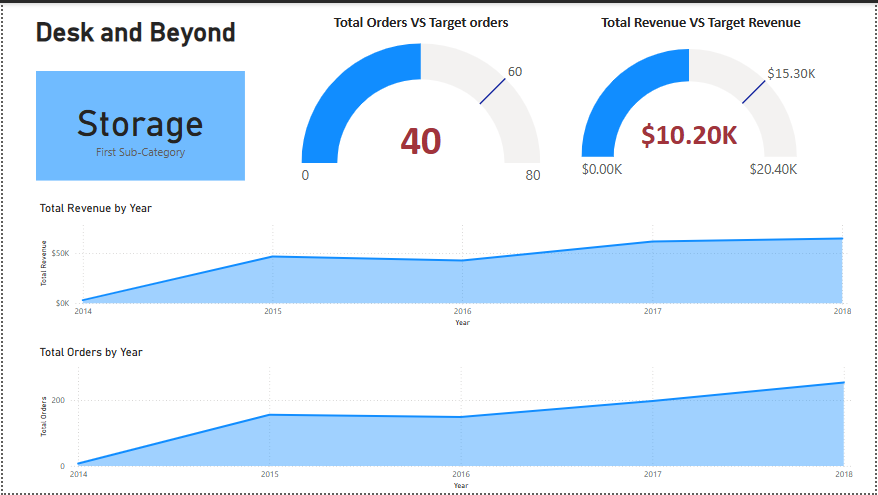

Layout of this report page (visuals, bound fields, positions):
{"tool":"powerbi","page":{"name":"Products","canvas":[1280,720],"ordinal":1},"visuals":[{"type":"gauge","title":"Total Orders VS Target orders","fields":{"Y":["Measures (2).Total Orders"],"TargetValue":["Measures (2).Target orders"]},"box":[433.5,14.7,361.5,276.2],"z":0},{"type":"gauge","title":"Total Revenue VS Target Revenue","fields":{"Y":["Measures (2).Total Revenue"],"TargetValue":["Measures (2).Target Revenue"]},"box":[844.7,14.9,360.9,275.3],"z":1000},{"type":"areaChart","fields":{"Y":["Measures (2).Total Revenue"],"Category":["Calendar.Start of Week.Variation.Date Hierarchy.Year","Calendar.Start of Week.Variation.Date Hierarchy.Quarter","Calendar.Start of Week.Variation.Date Hierarchy.Month","Calendar.Start of Week.Variation.Date Hierarchy.Day"]},"box":[49.2,291.3,1205.3,189.4],"z":2000},{"type":"areaChart","fields":{"Category":["Calendar.Start of Week.Variation.Date Hierarchy.Year","Calendar.Start of Week.Variation.Date Hierarchy.Quarter","Calendar.Start of Week.Variation.Date Hierarchy.Month","Calendar.Start of Week.Variation.Date Hierarchy.Day"],"Y":["Measures (2).Total Orders"]},"box":[49.2,502.5,1205.3,216.7],"z":3000},{"type":"card","fields":{"Values":["Min(Sales.Sub-Category)"]},"box":[48.3,100.1,307.5,160.9],"z":4000},{"type":"textbox","box":[42.9,14.3,312.8,66.1],"z":5000}]}

Visuals, with their boxes in screenshot pixels (x1, y1, x2, y2), scaled from the page's 1280x720 canvas onto the 878x495 screenshot:
"Total Orders VS Target orders" gauge: left=297, top=10, right=545, bottom=200
"Total Revenue VS Target Revenue" gauge: left=579, top=10, right=827, bottom=200
areaChart - Measures (2).Total Revenue x Calendar.Start of Week.Variation.Date Hierarchy.Year: left=34, top=200, right=861, bottom=330
areaChart - Calendar.Start of Week.Variation.Date Hierarchy.Year x Calendar.Start of Week.Variation.Date Hierarchy.Quarter: left=34, top=345, right=861, bottom=494
card - Min(Sales.Sub-Category): left=33, top=69, right=244, bottom=179
textbox: left=29, top=10, right=244, bottom=55
